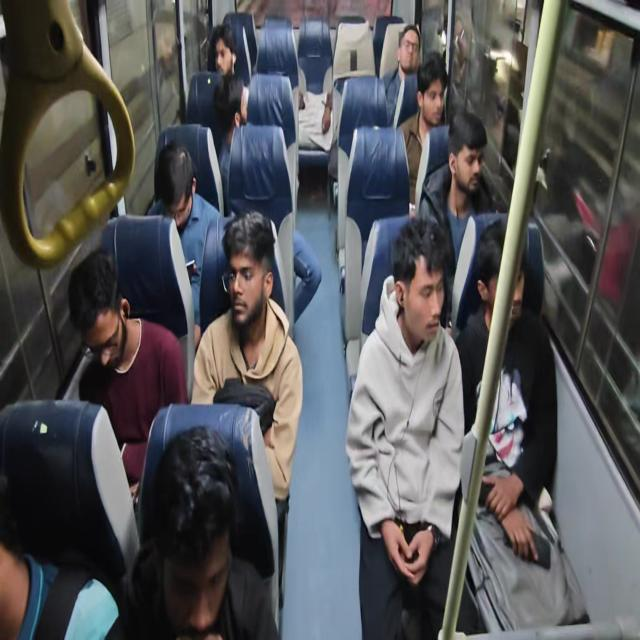person: (143, 404, 272, 640), (0, 460, 67, 635), (208, 208, 296, 334), (389, 202, 461, 337), (78, 235, 136, 389), (446, 96, 510, 232), (153, 139, 217, 259), (408, 36, 469, 130), (300, 20, 339, 163), (480, 222, 530, 317), (210, 78, 253, 176), (387, 19, 429, 84), (211, 36, 244, 104)
